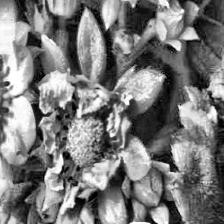Blossom Blight: (52, 92, 123, 186), (0, 52, 13, 155)
